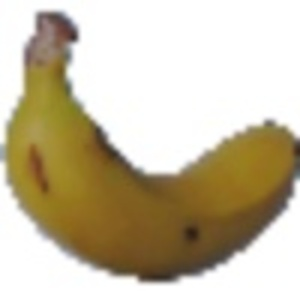banana: (6, 6, 297, 284)
